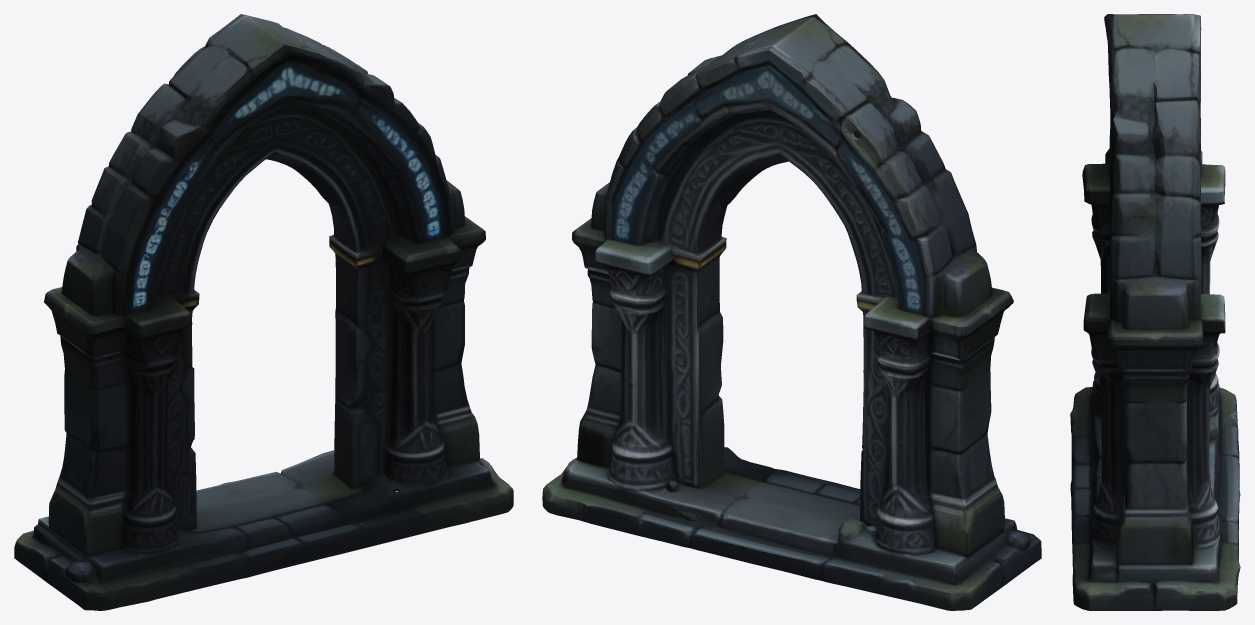
The model's file is archway_gate.glb.
3 renders of one model, left to right at view 1: azimuth 30°, elevation 25°; view 2: azimuth 150°, elevation 25°; view 3: azimuth 270°, elevation 25°, orthographic.
Parts seen in each view (by area): view 1: world; view 2: world; view 3: world.
Part boxes in pixels (x1,y1,x2,y2): world: [14, 14, 513, 610]; world: [542, 14, 1041, 610]; world: [1070, 14, 1240, 610].
Bounding box in the file's own units: 0.8991 × 1 × 0.313.
Materials: 1 (1 with a texture image).
